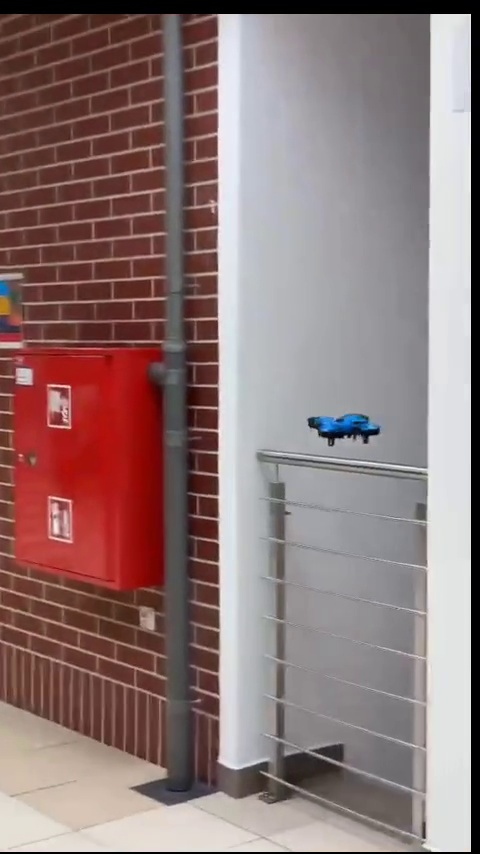drone: (304, 408, 384, 448)
